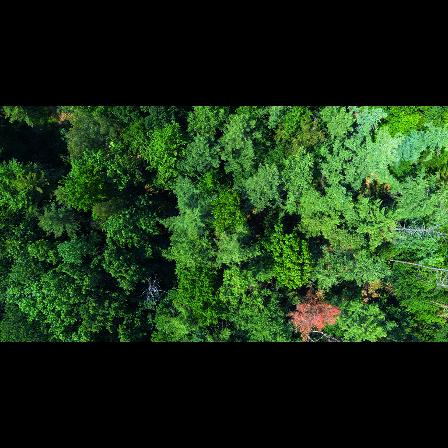Dead: (384, 256, 448, 283), (385, 220, 448, 245)
